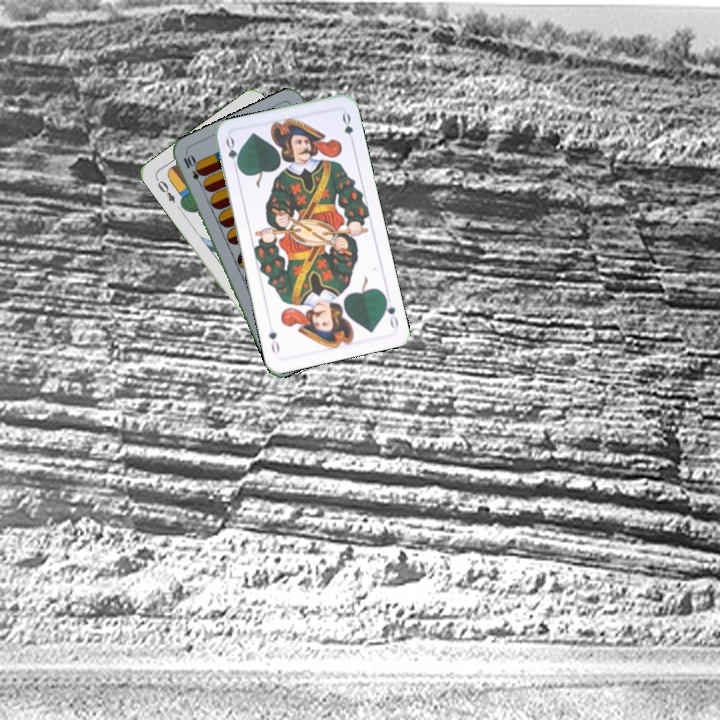E10: (179, 151, 206, 190)
EO: (152, 174, 178, 205)
GO: (222, 133, 243, 174), (380, 292, 401, 331)
